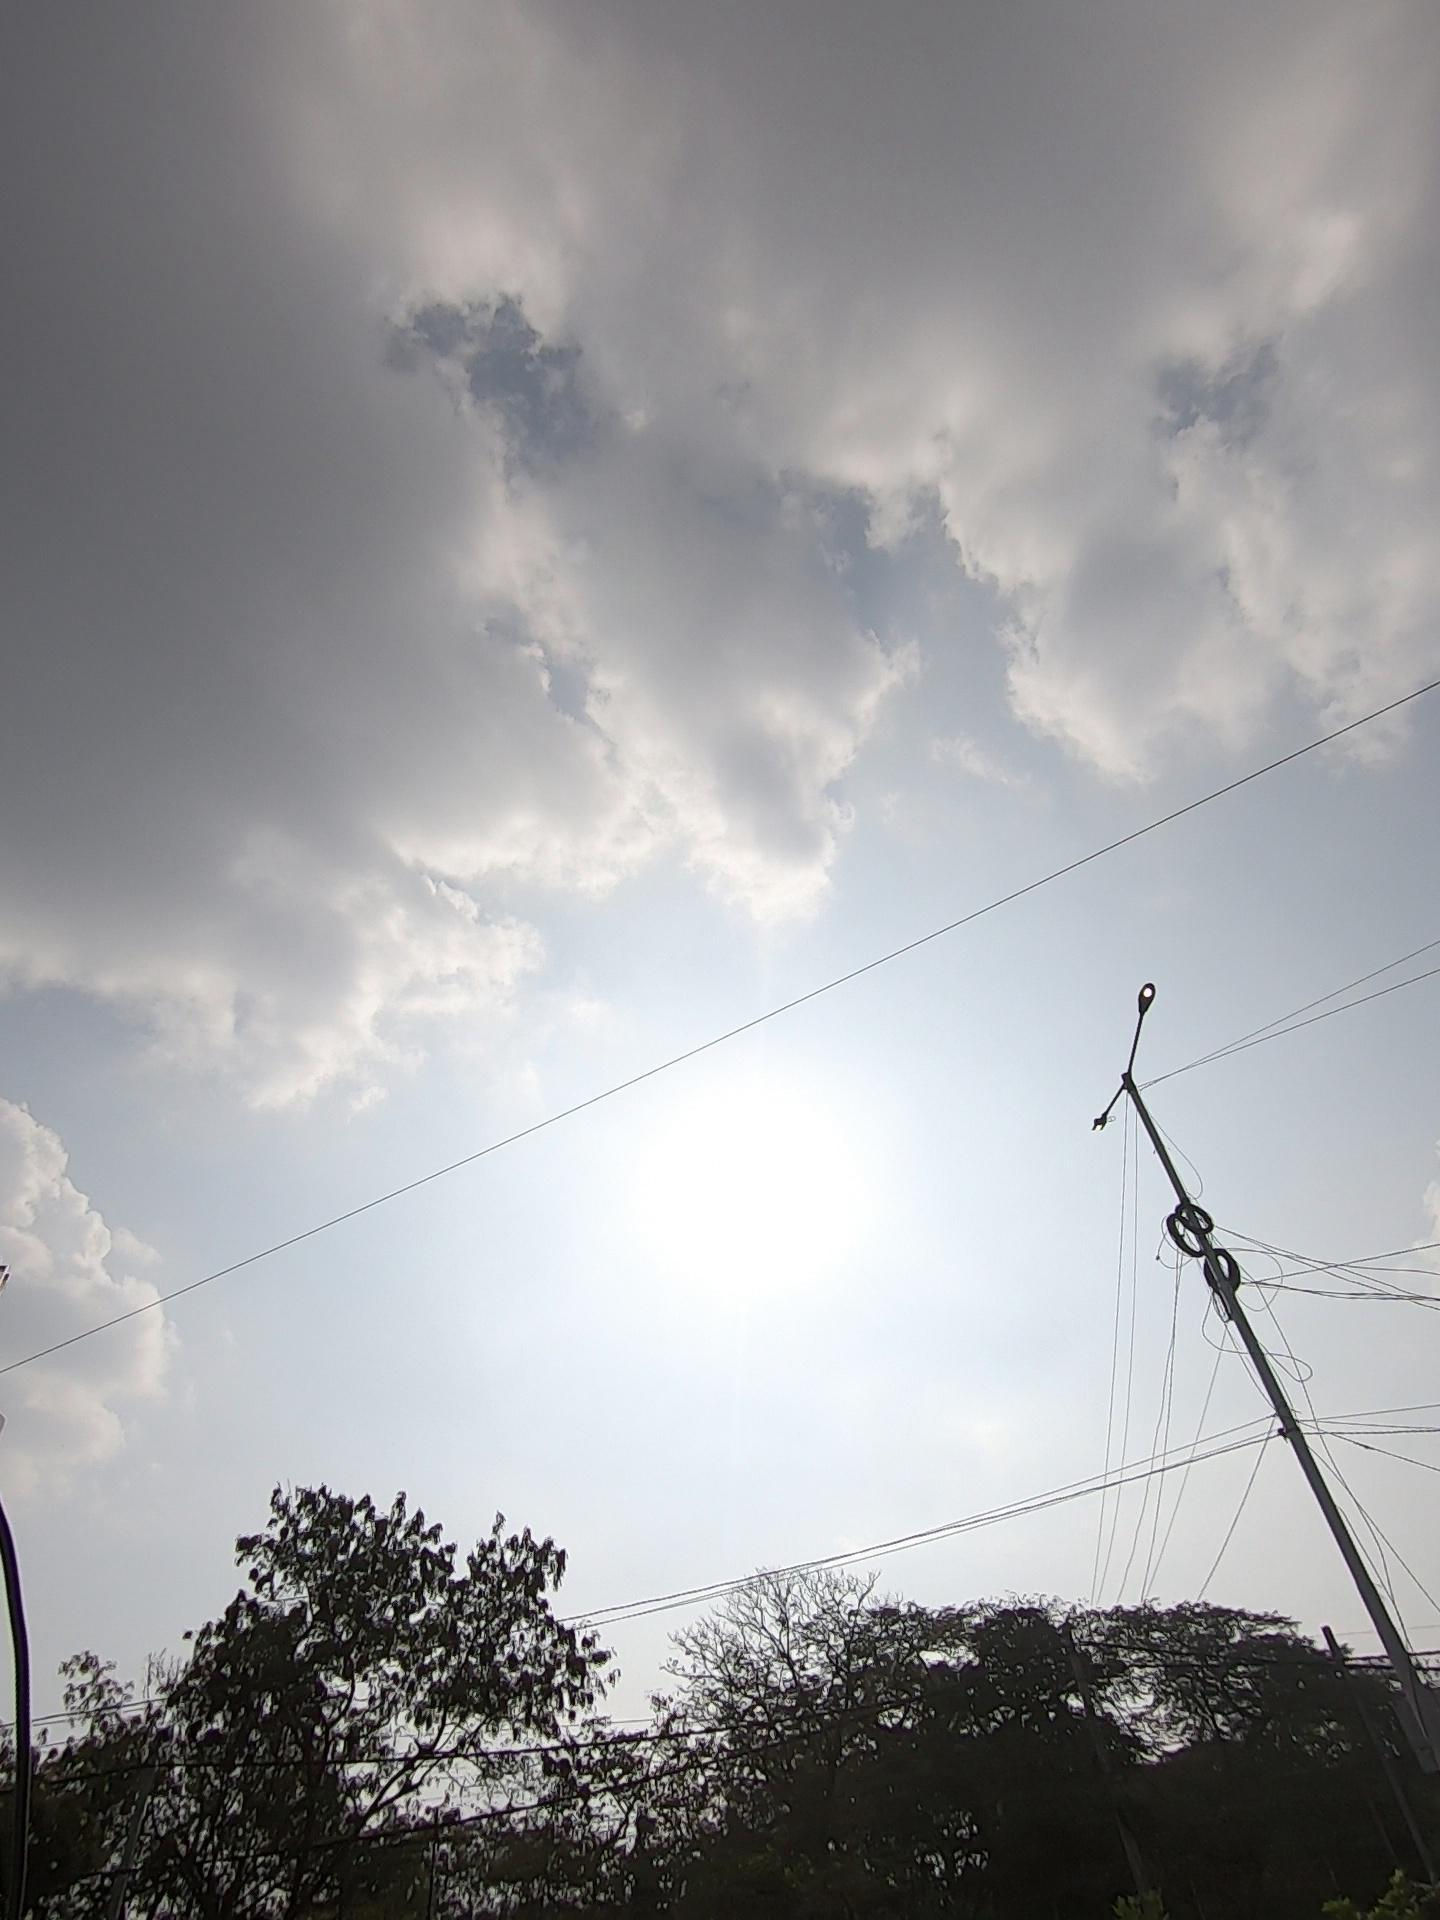off: (1010, 962, 1227, 1152)
